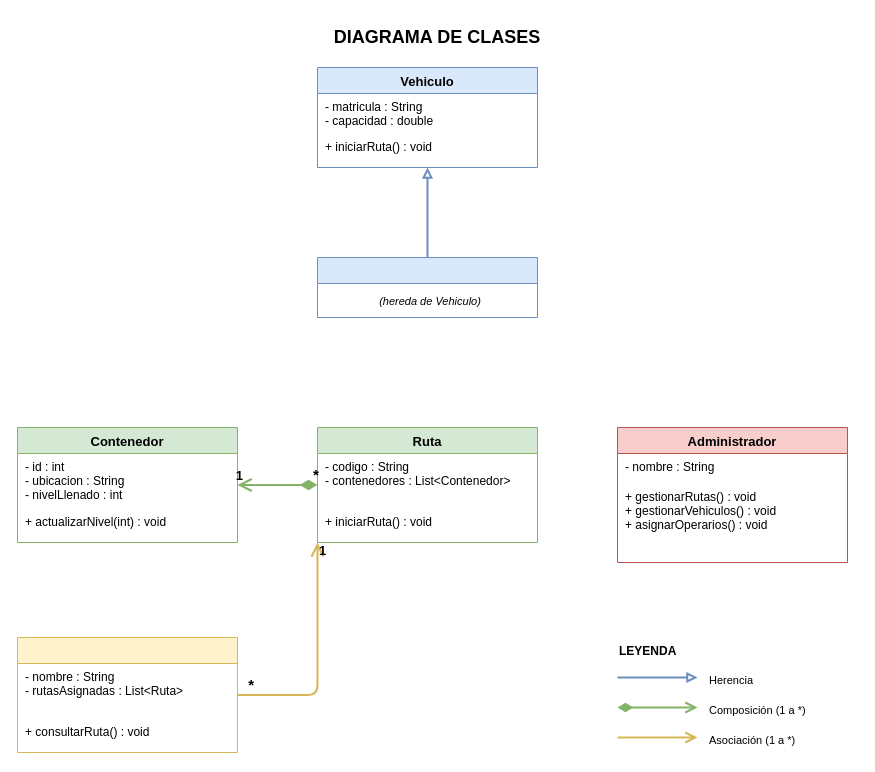
This 875x772 diagram has some shape labels left out. Each missing label, with the box of its shape:
CamionRecolector: (316, 256, 538, 318)
Operario: (16, 636, 238, 752)
